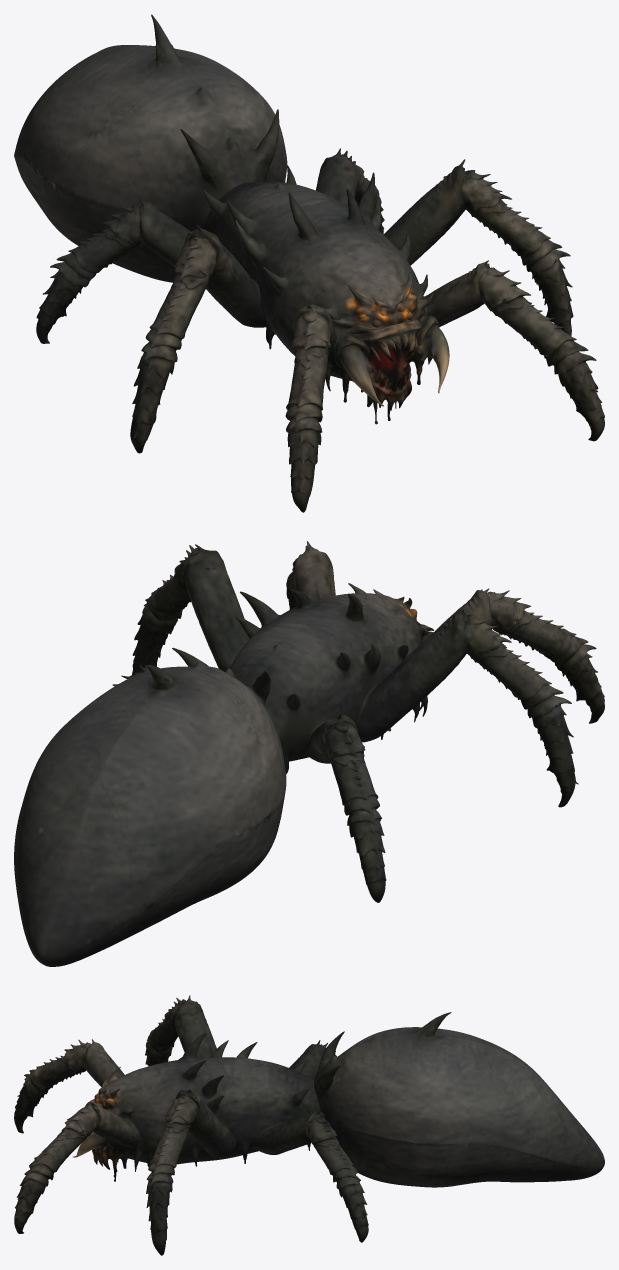
Rendered from giant_spider.glb.
The picture shows the model from 3 angles, top to bottom: view 1: azimuth 30°, elevation 25°; view 2: azimuth 150°, elevation 25°; view 3: azimuth 270°, elevation 25°; orthographic projection. The views are drawn at different scales.
Visible parts, largest first — view 1: material; view 2: material; view 3: material.
Boxes of the visible parts, x1=… form: material: x1=14, y1=14, x2=604, y2=512; material: x1=14, y1=541, x2=604, y2=966; material: x1=14, y1=995, x2=604, y2=1255.
Bounding box in the file's own units: 0.6623 × 0.3459 × 1.07.
1 material, 1 textured.
